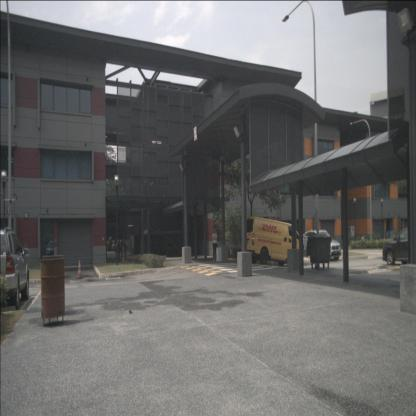human-pedestrian-adult: (212, 227, 218, 262)
movable_object-trafficcone: (76, 259, 82, 279)
vehicle-car: (243, 216, 304, 266), (0, 229, 29, 310), (382, 226, 416, 266), (301, 230, 341, 260)
